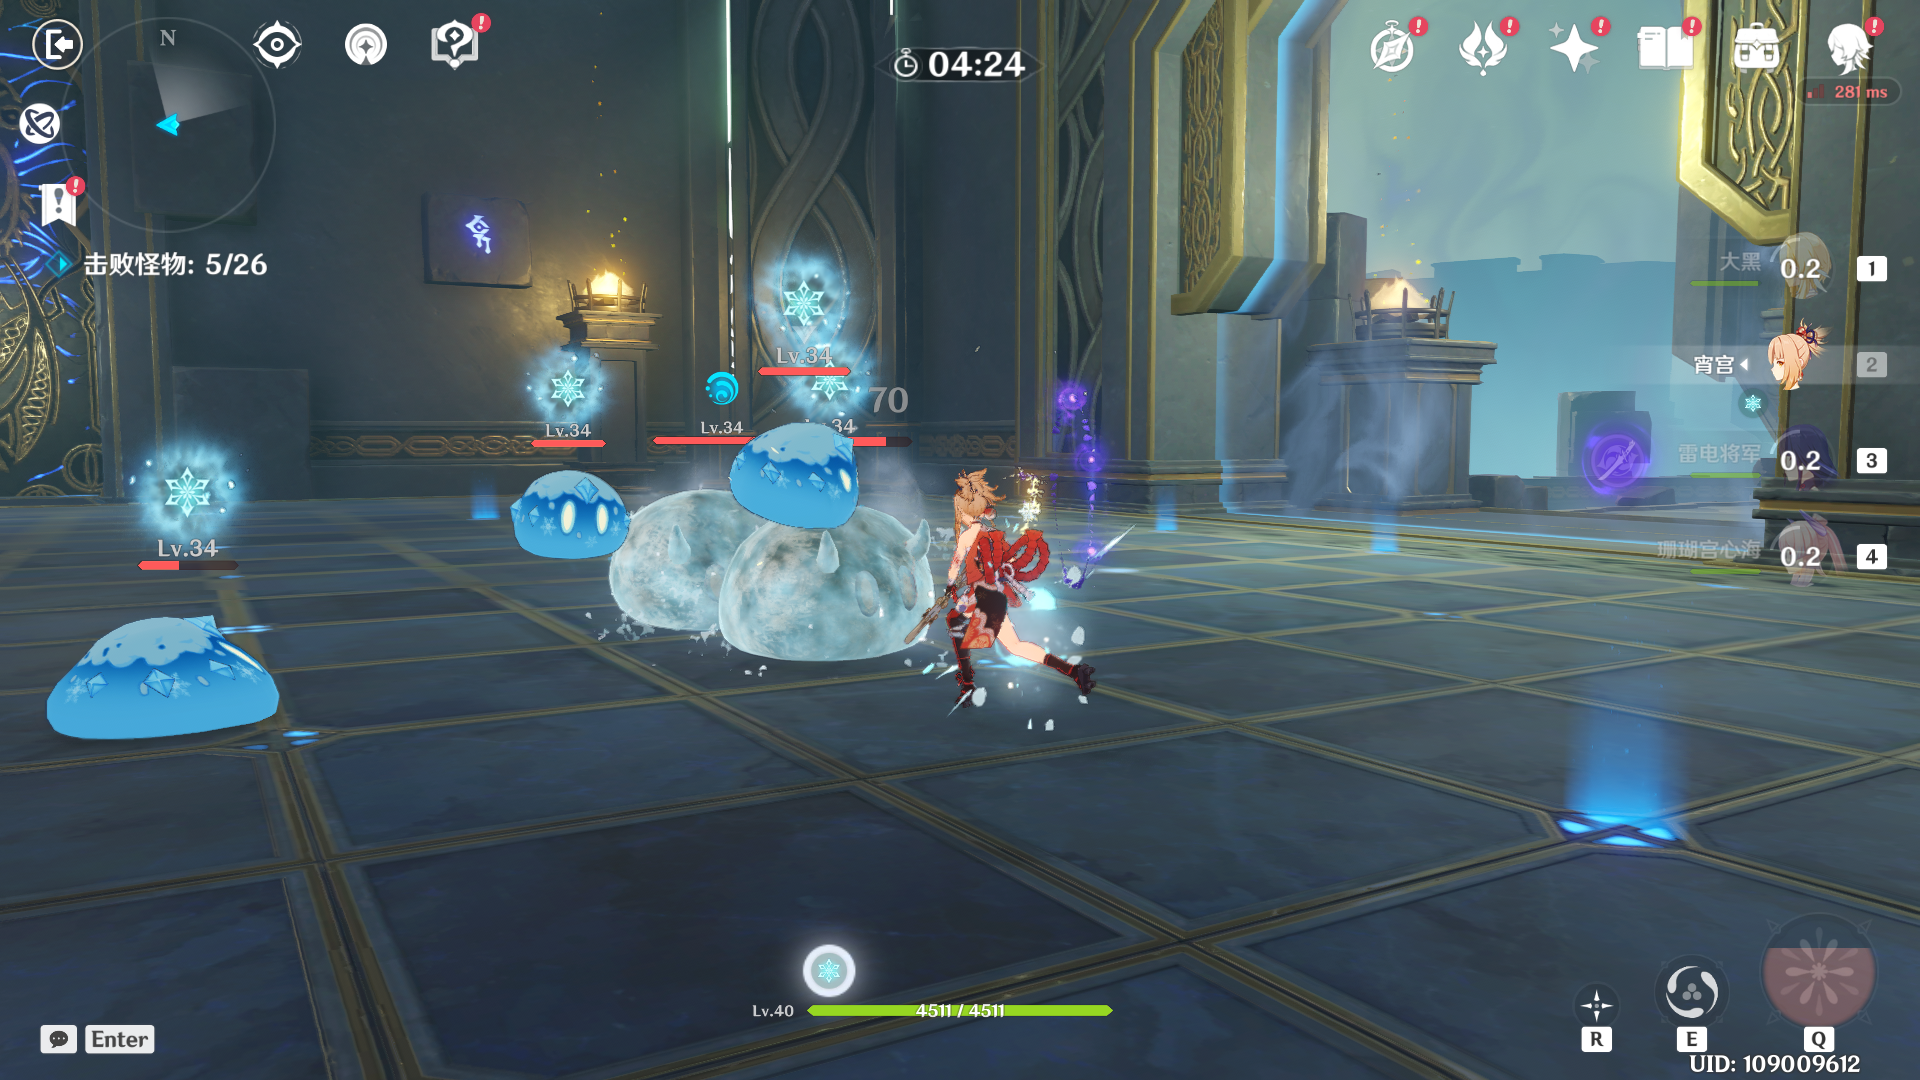slime: (704, 500, 955, 692), (25, 596, 307, 762), (719, 400, 870, 546), (483, 439, 640, 580)
